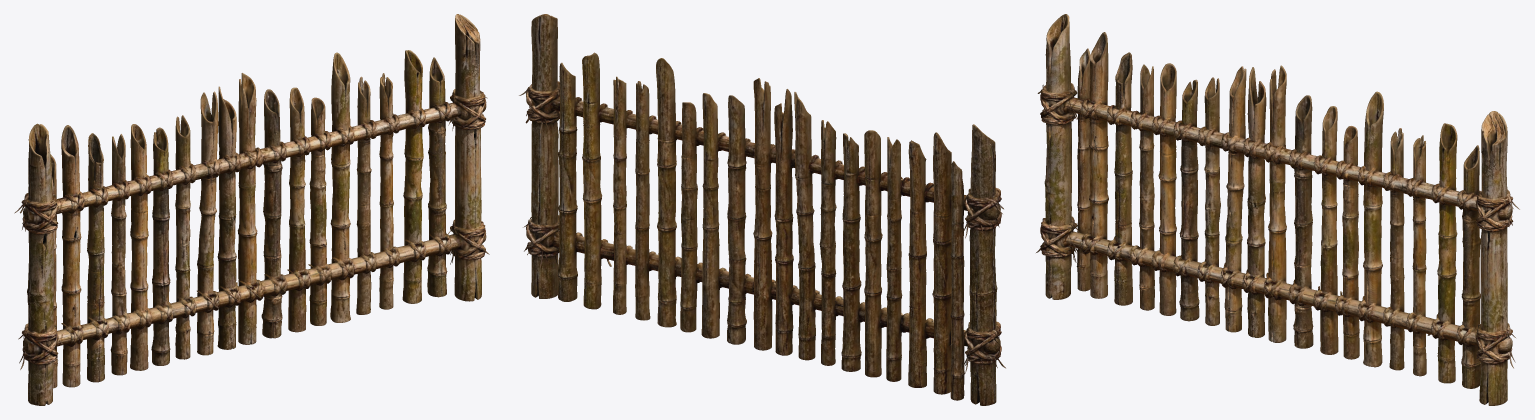
The model's file is wooden_fence_3d_model_LOD2.glb.
The picture shows the model from 3 angles, left to right: view 1: azimuth 30°, elevation 25°; view 2: azimuth 150°, elevation 25°; view 3: azimuth 330°, elevation 25°; orthographic projection. The views are drawn at different scales.
Parts seen in each view (by area): view 1: tripo_node_7f025bb0-1aa5-44ca-97af-c0e8644669a9; view 2: tripo_node_7f025bb0-1aa5-44ca-97af-c0e8644669a9; view 3: tripo_node_7f025bb0-1aa5-44ca-97af-c0e8644669a9.
Part boxes in pixels (bbox=[...]): tripo_node_7f025bb0-1aa5-44ca-97af-c0e8644669a9: bbox=[14, 14, 489, 405]; tripo_node_7f025bb0-1aa5-44ca-97af-c0e8644669a9: bbox=[519, 14, 1005, 405]; tripo_node_7f025bb0-1aa5-44ca-97af-c0e8644669a9: bbox=[1036, 14, 1519, 405].
Bounding box in the file's own units: 0.9833 × 0.5544 × 0.0814.
1 material, 1 textured.
